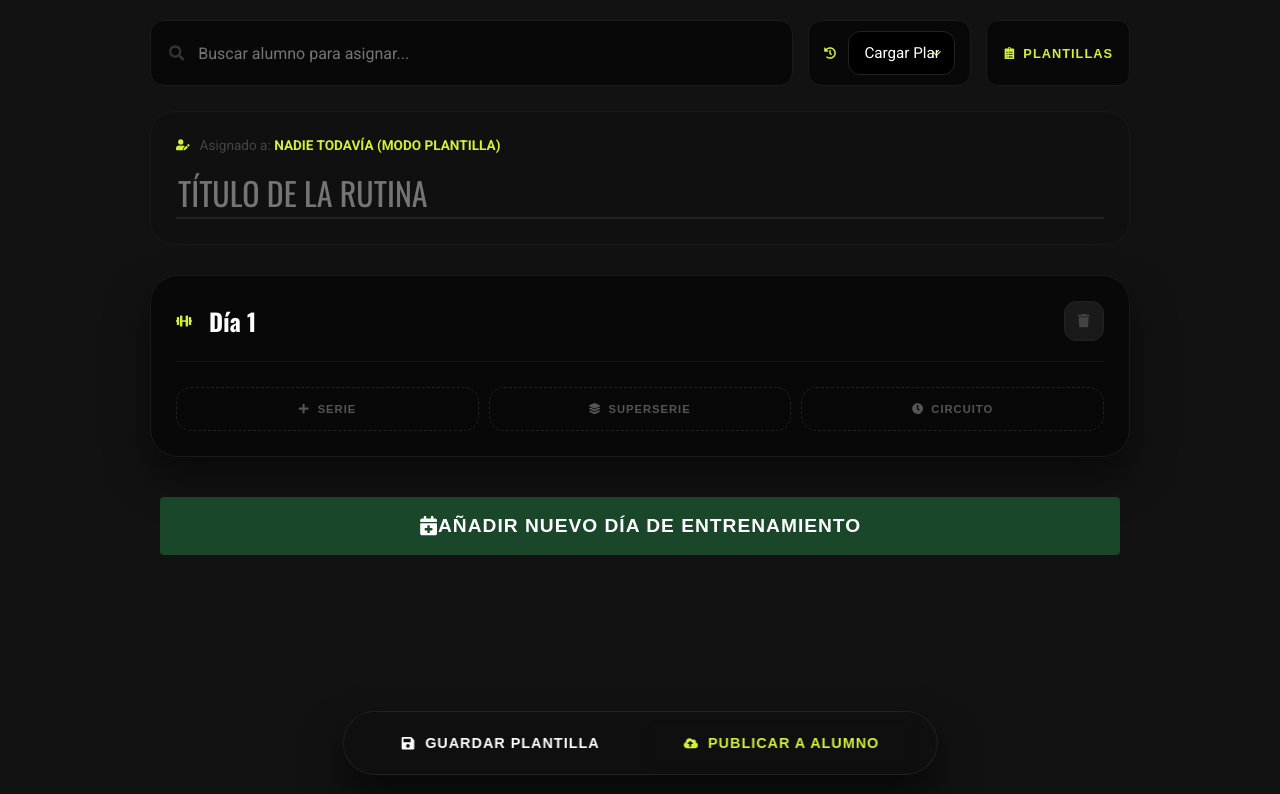
Test: AdminDashboard — construir un plan: días, bloques, ejercicios › agrega un bloque "Circuito" con vueltas por defecto = 3
What coordinates should you click on to do the following:
click the button "Circuito"
I would click on:
 (953, 409)
Its box is 801,387 -> 1104,431.
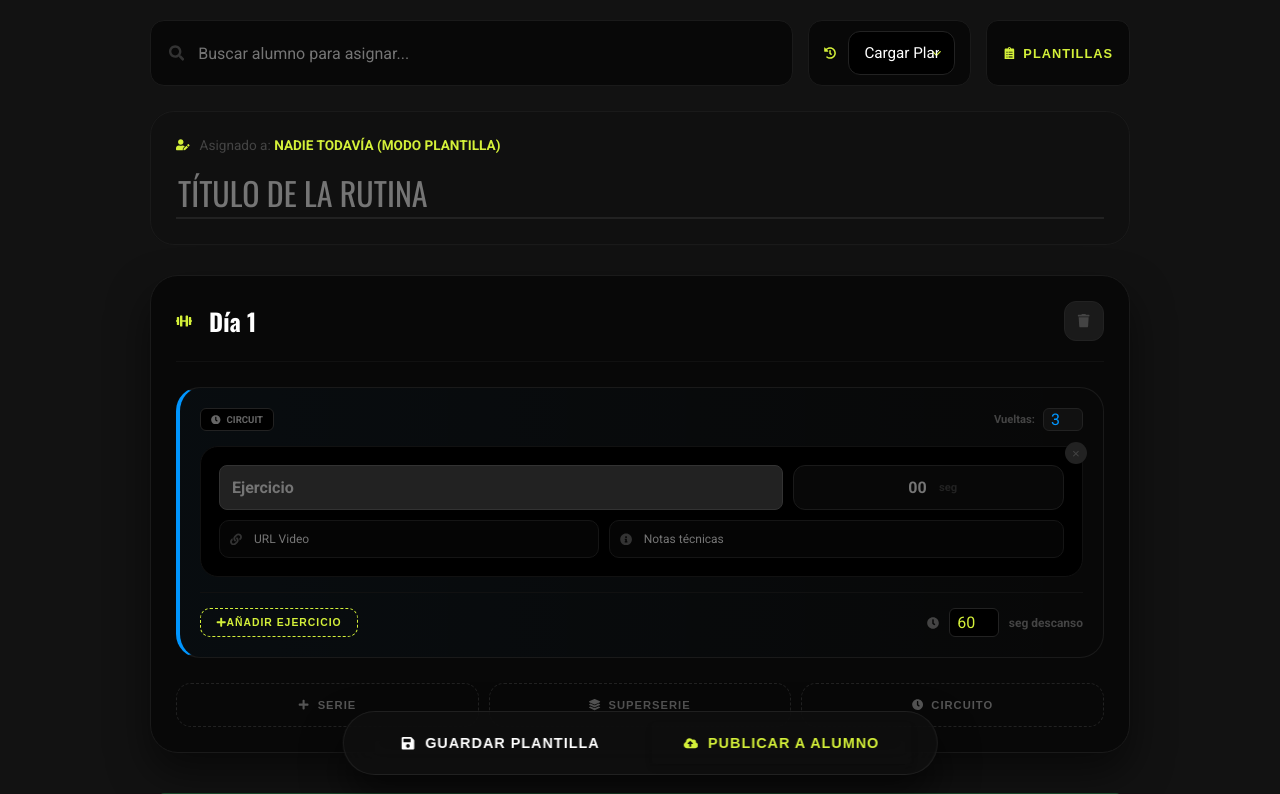
expect the number field showing "3" next to "Vueltas:" is shown: met, box 1043,408 -> 1083,431
